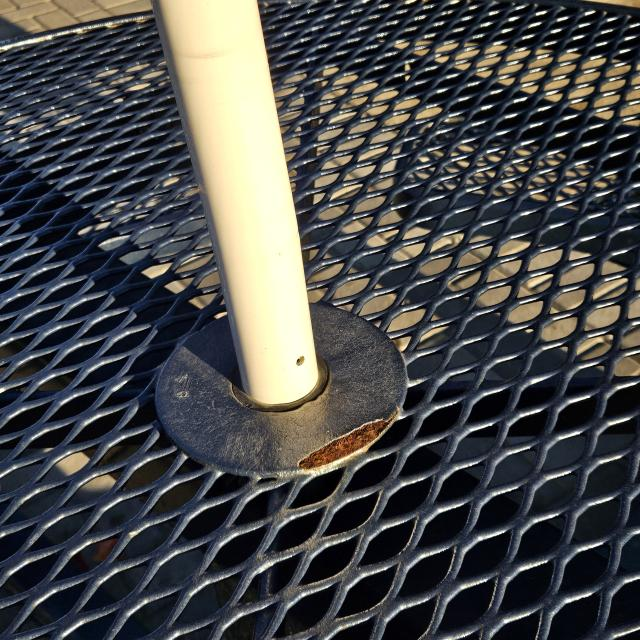Filiform Corrosion: (278, 395, 392, 484)
